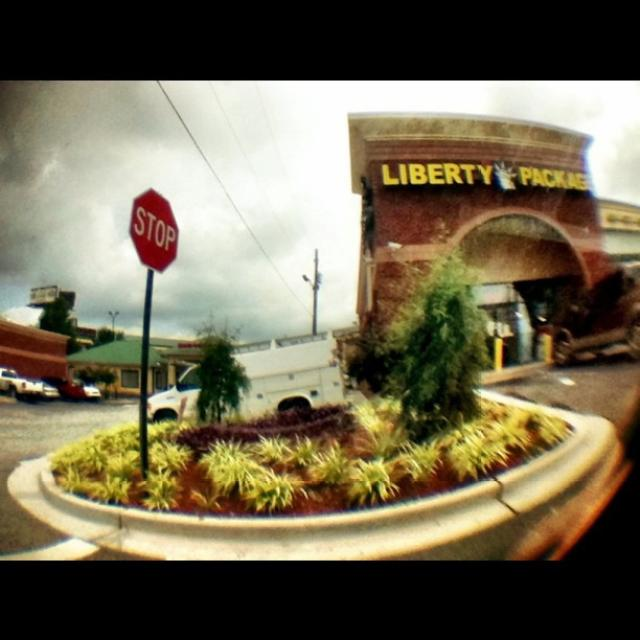Vehicle: (147, 336, 350, 424), (548, 261, 640, 367), (43, 376, 103, 402), (0, 367, 43, 397), (26, 378, 61, 398)
